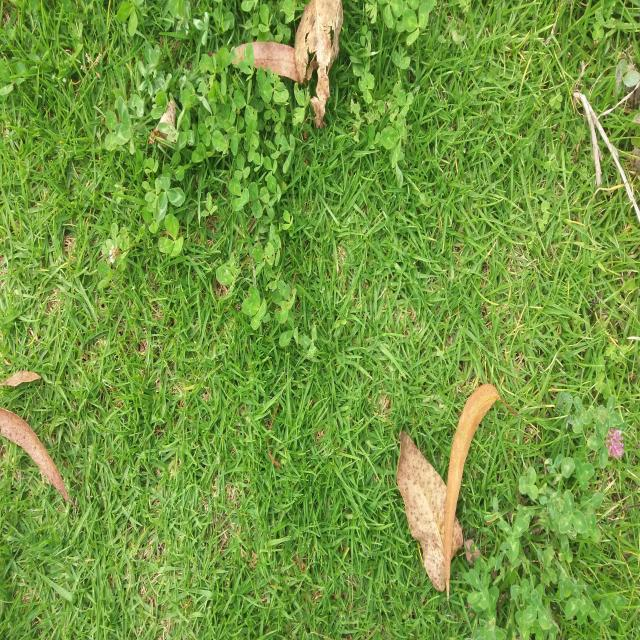Four Leaf Clover: (241, 286, 266, 330)
